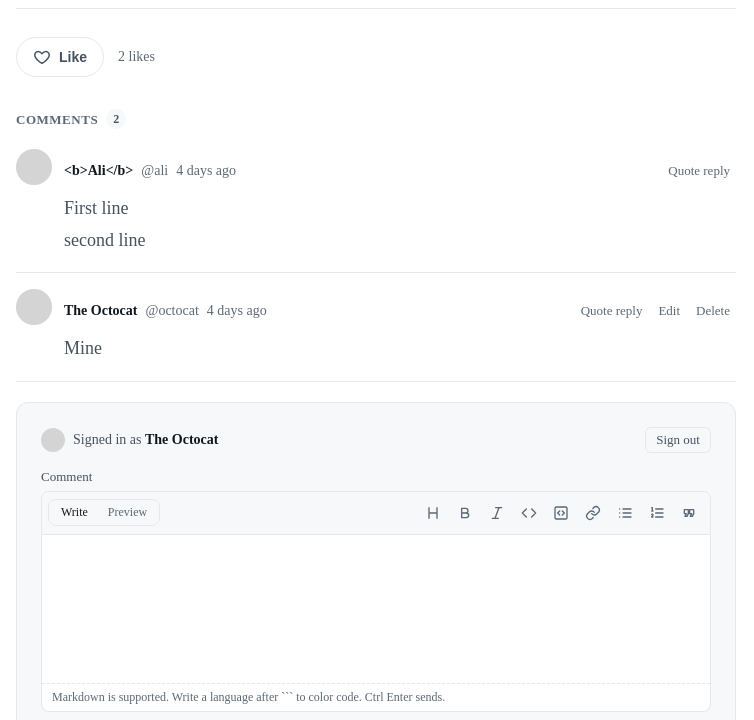
PostReactions › asks before a delete inside the comment, and keeps focus on a real control
Click the button "Delete": {"x": 713, "y": 311} [690,299,736,323]
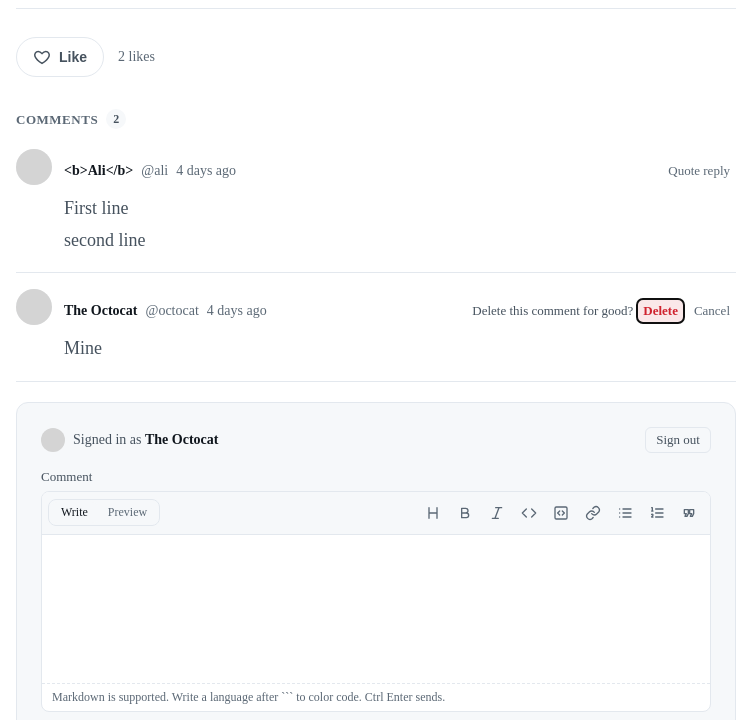
expect the element showing "Delete this comment for good? Delete Cancel" is shown: met
Press Escape in the element showing "Delete this comment for good? Delete Cancel", box [472,303,736,319]
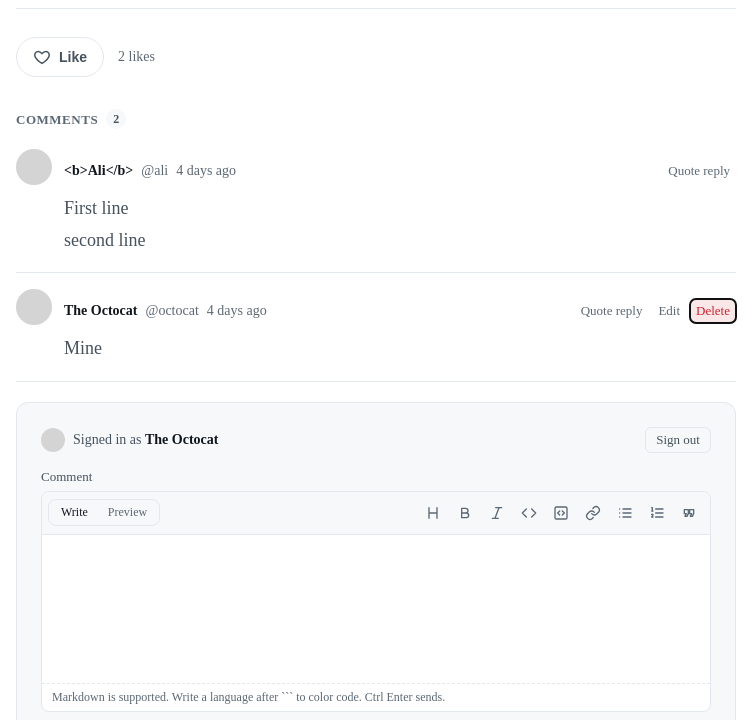
expect the text "Delete this comment for good? Delete Cancel" is gone: met
Click the button "Delete": {"x": 713, "y": 311} [690,299,736,323]
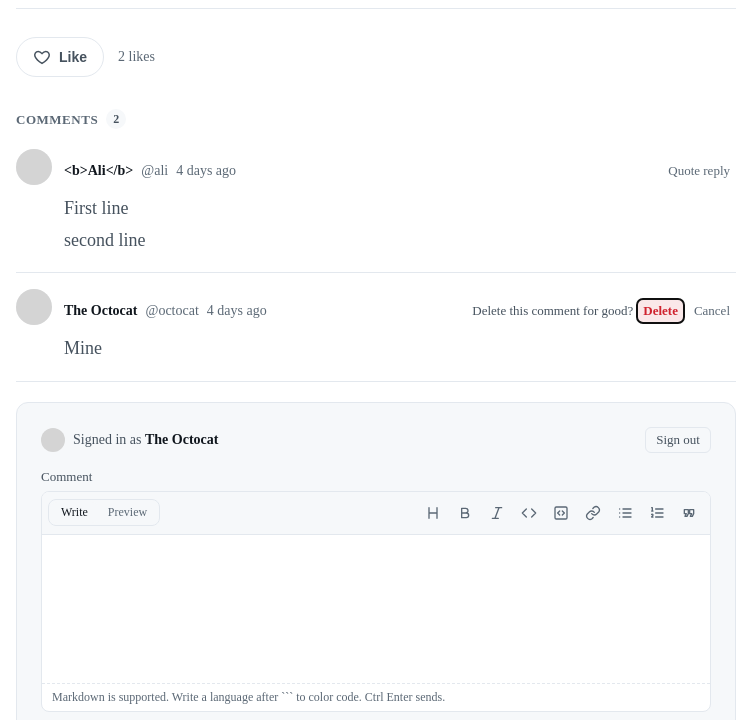
Click the button "Delete": {"x": 661, "y": 311} [637,299,684,323]
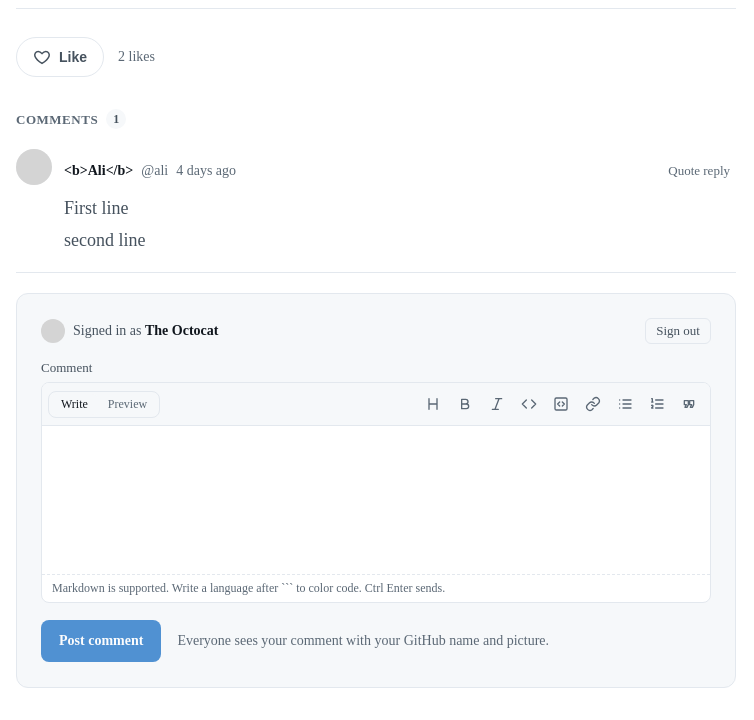
expect the number of list items is 1: met, box [16,149,736,273]
